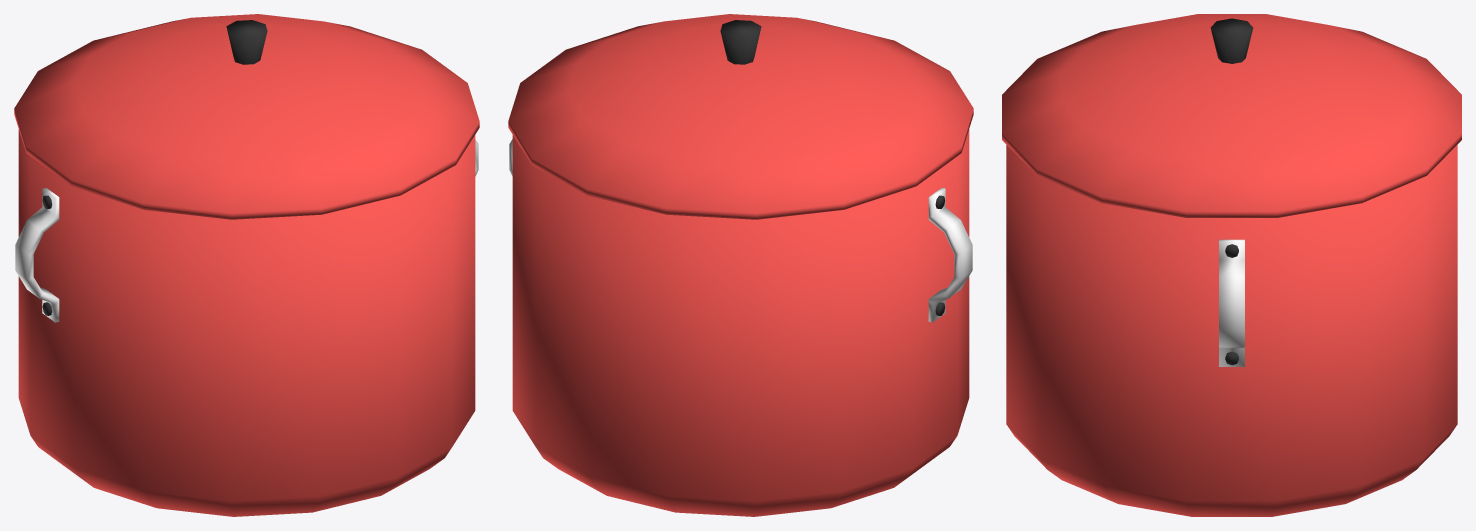
Rendered from Pot#2.B.fbx.
The picture shows the model from 3 angles, left to right: view 1: azimuth 30°, elevation 25°; view 2: azimuth 150°, elevation 25°; view 3: azimuth 270°, elevation 25°; orthographic projection.
Visible parts, largest first — view 1: Pot#2.B; view 2: Pot#2.B; view 3: Pot#2.B.
Boxes of the visible parts, <box> form: Pot#2.B: <box>14,14,479,516</box>; Pot#2.B: <box>508,14,973,516</box>; Pot#2.B: <box>1002,14,1461,516</box>.
Bounding box in the file's own units: 39.24 × 33.97 × 34.48.
